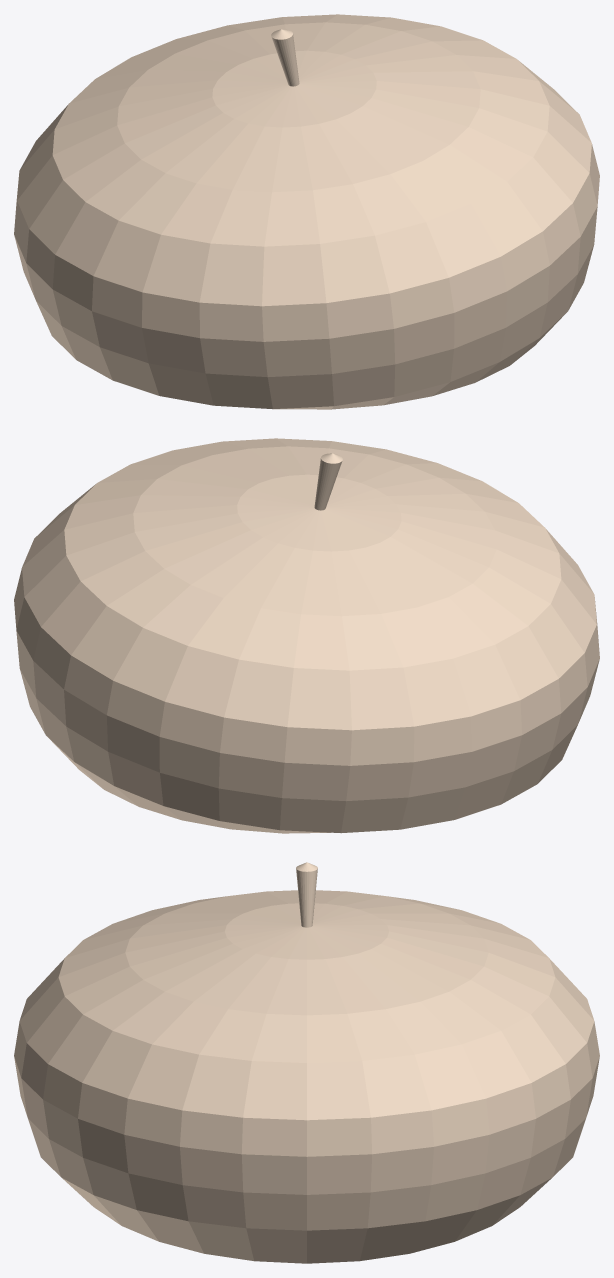
File: beret.fbx
3 views of the same model, one above another, from view 1: azimuth 30°, elevation 25°; view 2: azimuth 150°, elevation 25°; view 3: azimuth 270°, elevation 25° (orthographic).
Parts seen in each view (by area): view 1: Circle; view 2: Circle; view 3: Circle.
Part boxes in pixels (x1,y1,x2,y2): Circle: (14, 14, 599, 409); Circle: (14, 438, 599, 833); Circle: (14, 862, 599, 1263).
Size of the model in its own units: 59.65 by 32.12 by 59.44.
